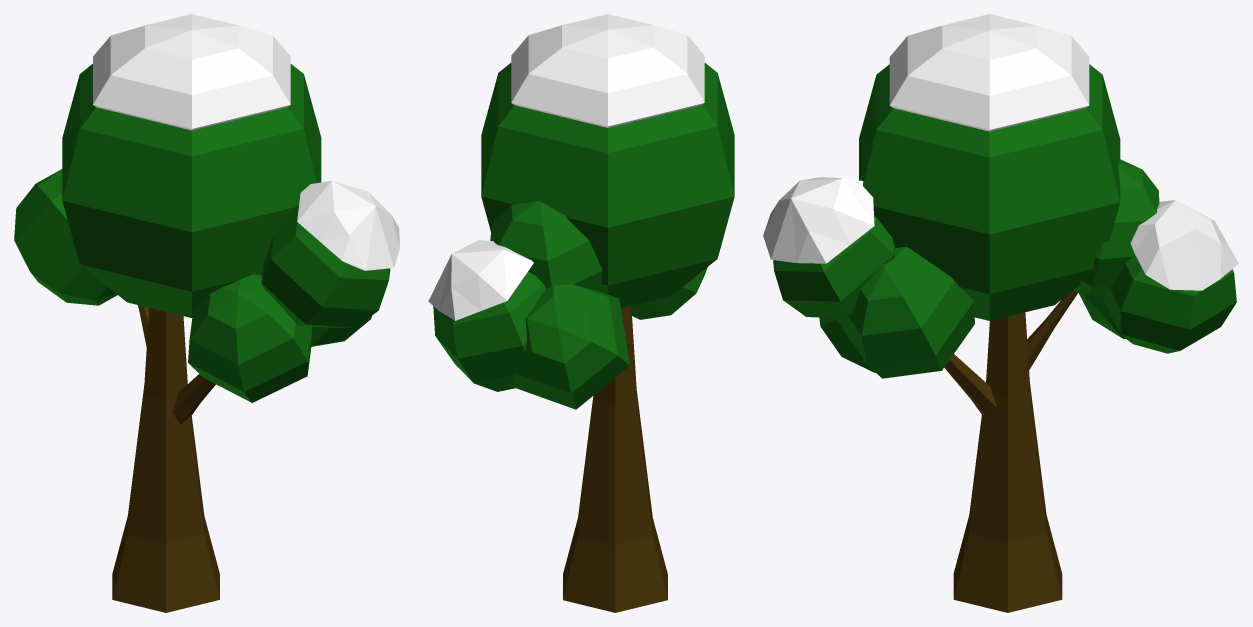
File: Tree_6_Snow.fbx
The picture shows the model from 3 angles, left to right: view 1: azimuth 30°, elevation 25°; view 2: azimuth 150°, elevation 25°; view 3: azimuth 270°, elevation 25°; orthographic projection. The views are drawn at different scales.
Parts seen in each view (by area): view 1: Tree_6_Snow; view 2: Tree_6_Snow; view 3: Tree_6_Snow.
Part boxes in pixels (<box>): Tree_6_Snow: <box>14,14,399,612</box>; Tree_6_Snow: <box>428,14,734,612</box>; Tree_6_Snow: <box>763,14,1238,612</box>.
Bounding box in the file's own units: 4.95 × 9.95 × 7.6.
